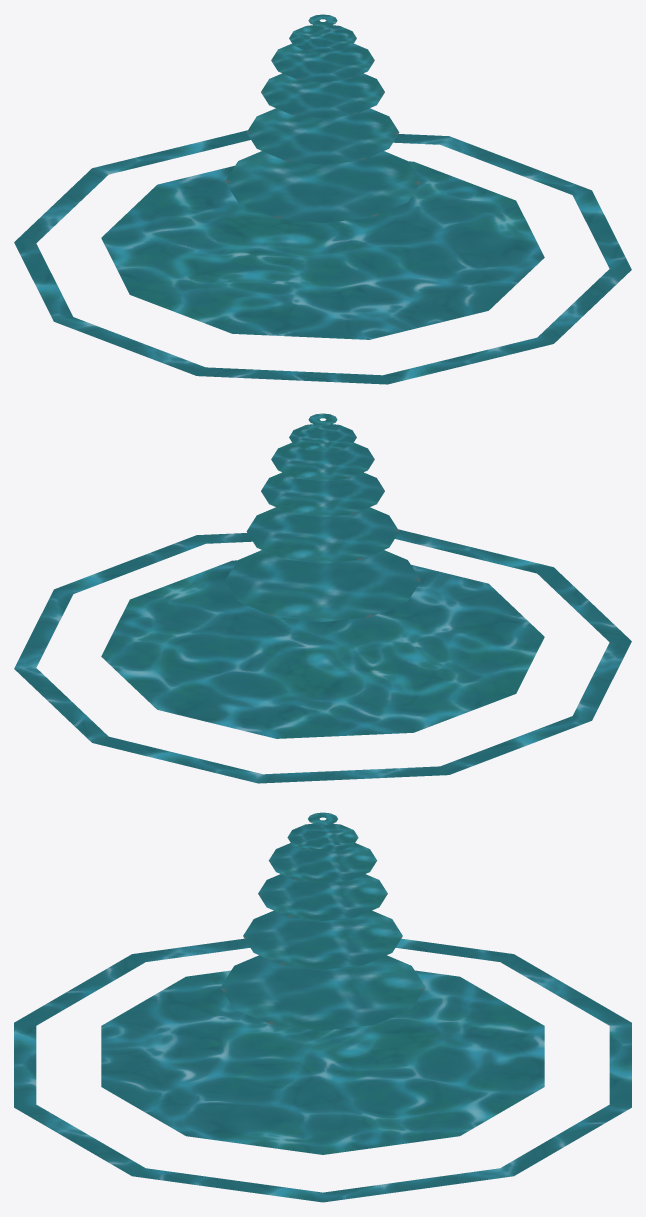
The model's file is Water.fbx.
3 views of the same model, one above another, from view 1: azimuth 30°, elevation 25°; view 2: azimuth 150°, elevation 25°; view 3: azimuth 270°, elevation 25° (orthographic). The views are drawn at different scales.
Parts seen in each view (by area): view 1: Water; view 2: Water; view 3: Water.
Part boxes in pixels (x1=…): Water: x1=14, y1=14, x2=631, y2=384; Water: x1=14, y1=413, x2=631, y2=783; Water: x1=14, y1=812, x2=631, y2=1202.
Bounding box in the file's own units: 160 × 67.06 × 153.
1 material, 1 textured.
